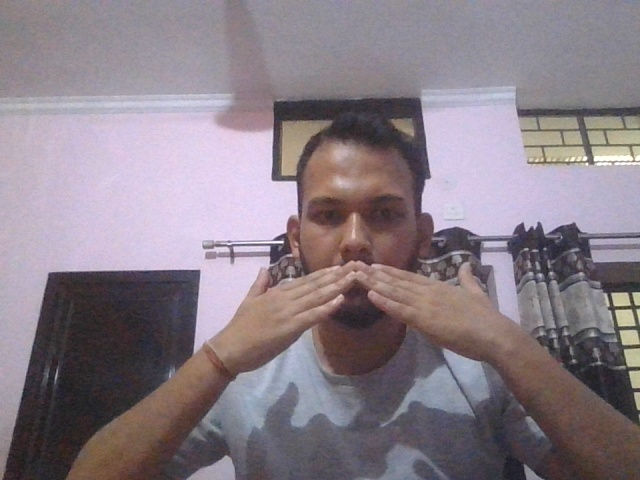thanks: (210, 261, 522, 370)
